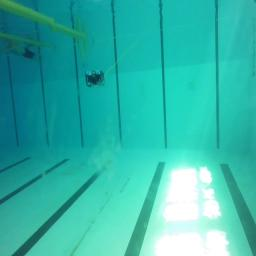front: (86, 70, 104, 87)
